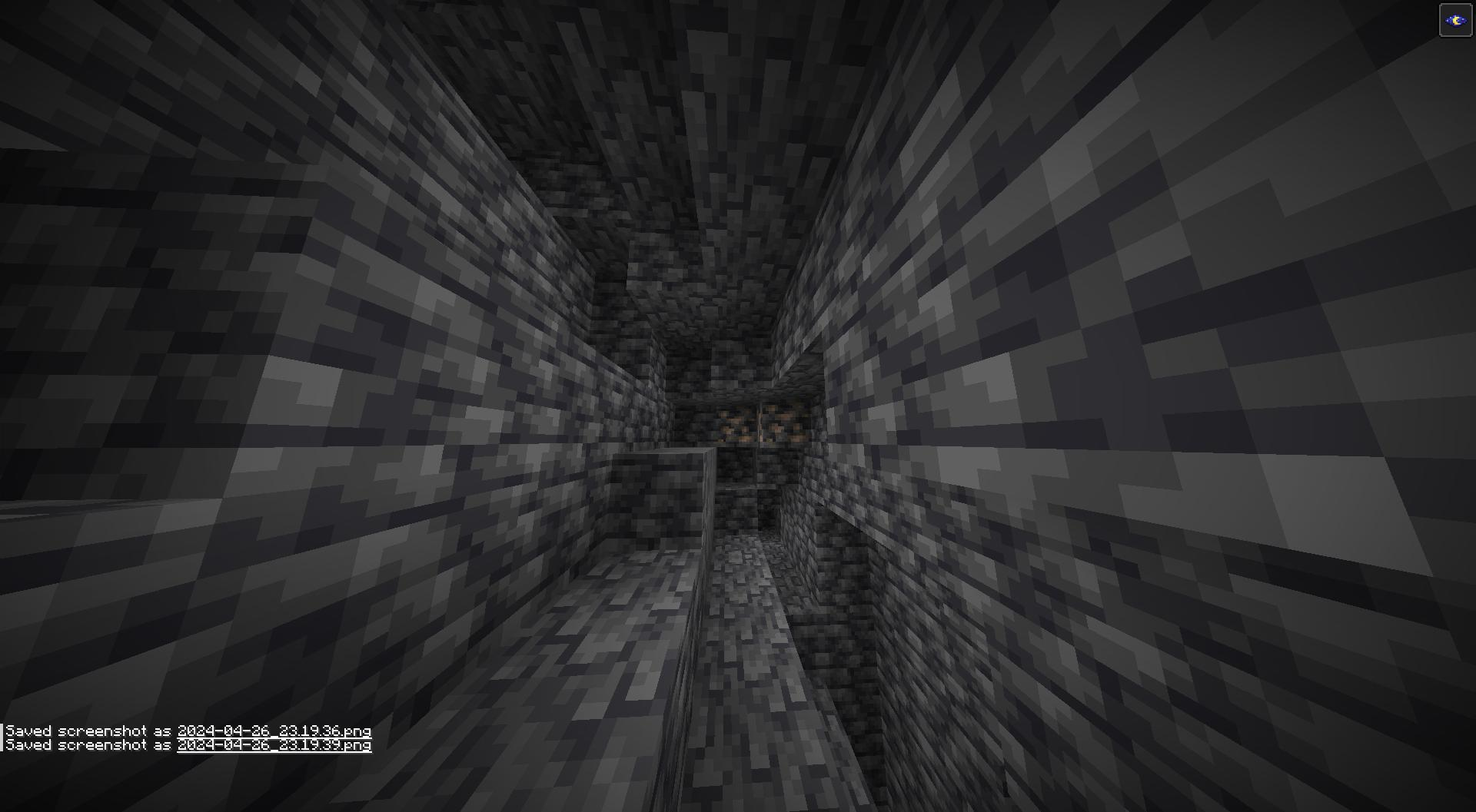iron ore: (762, 402, 808, 443), (716, 409, 758, 446)
